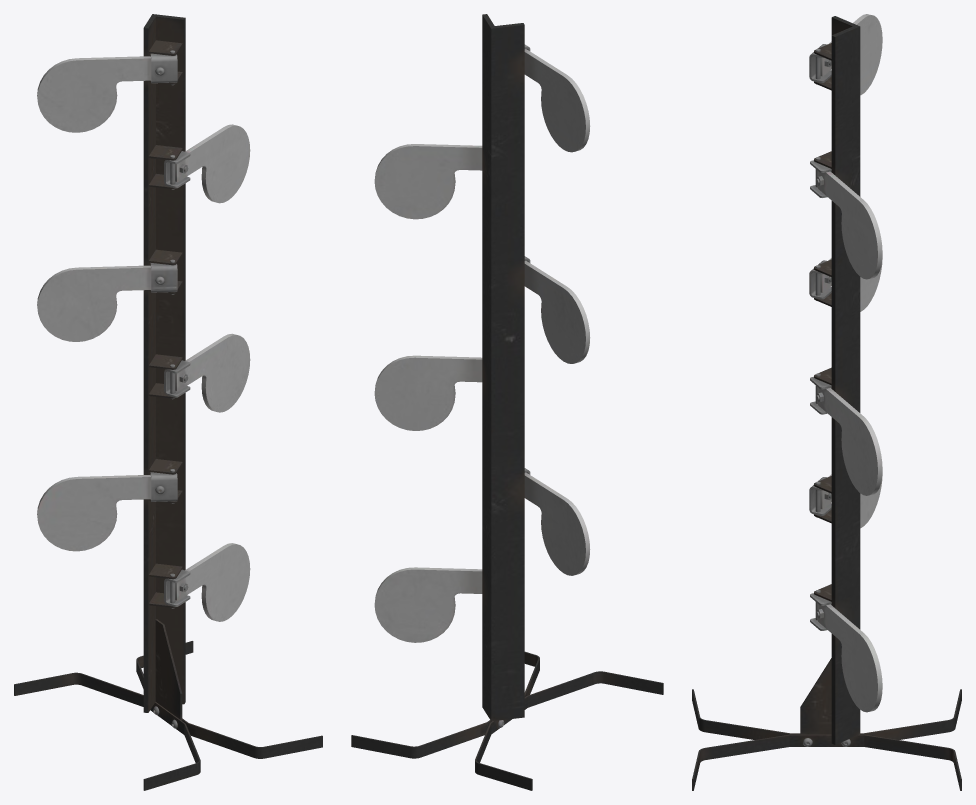
File: target_duel_tree.glb
3 views of the same model, side by side, from view 1: azimuth 30°, elevation 25°; view 2: azimuth 150°, elevation 25°; view 3: azimuth 270°, elevation 25° (orthographic). The views are drawn at different scales.
Parts seen in each view (by area): view 1: DuelTree_Stand_TargetSet01_0, DuelTree_Target_05_TargetSet01_0, DuelTree_Target_03_TargetSet01_0, DuelTree_Target_01_TargetSet01_0, DuelTree_Target_04_TargetSet01_0, DuelTree_Target_02_TargetSet01_0, DuelTree_Target_06_TargetSet01_0; view 2: DuelTree_Stand_TargetSet01_0, DuelTree_Target_06_TargetSet01_0, DuelTree_Target_02_TargetSet01_0, DuelTree_Target_04_TargetSet01_0, DuelTree_Target_01_TargetSet01_0, DuelTree_Target_05_TargetSet01_0, DuelTree_Target_03_TargetSet01_0; view 3: DuelTree_Stand_TargetSet01_0, DuelTree_Target_04_TargetSet01_0, DuelTree_Target_06_TargetSet01_0, DuelTree_Target_02_TargetSet01_0, DuelTree_Target_01_TargetSet01_0, DuelTree_Target_03_TargetSet01_0, DuelTree_Target_05_TargetSet01_0.
Part boxes in pixels (x1=…): DuelTree_Stand_TargetSet01_0: x1=14, y1=14, x2=322, y2=790; DuelTree_Target_05_TargetSet01_0: x1=37, y1=472, x2=177, y2=551; DuelTree_Target_03_TargetSet01_0: x1=37, y1=263, x2=177, y2=341; DuelTree_Target_01_TargetSet01_0: x1=37, y1=53, x2=177, y2=132; DuelTree_Target_04_TargetSet01_0: x1=164, y1=333, x2=250, y2=412; DuelTree_Target_02_TargetSet01_0: x1=164, y1=124, x2=250, y2=203; DuelTree_Target_06_TargetSet01_0: x1=164, y1=543, x2=250, y2=621; DuelTree_Stand_TargetSet01_0: x1=351, y1=14, x2=663, y2=790; DuelTree_Target_06_TargetSet01_0: x1=374, y1=567, x2=482, y2=642; DuelTree_Target_02_TargetSet01_0: x1=374, y1=144, x2=482, y2=219; DuelTree_Target_04_TargetSet01_0: x1=374, y1=355, x2=482, y2=430; DuelTree_Target_01_TargetSet01_0: x1=524, y1=44, x2=590, y2=152; DuelTree_Target_05_TargetSet01_0: x1=524, y1=468, x2=590, y2=575; DuelTree_Target_03_TargetSet01_0: x1=524, y1=256, x2=590, y2=363; DuelTree_Stand_TargetSet01_0: x1=692, y1=16, x2=961, y2=790; DuelTree_Target_04_TargetSet01_0: x1=810, y1=376, x2=882, y2=495; DuelTree_Target_06_TargetSet01_0: x1=810, y1=593, x2=882, y2=712; DuelTree_Target_02_TargetSet01_0: x1=810, y1=160, x2=882, y2=279; DuelTree_Target_01_TargetSet01_0: x1=809, y1=14, x2=882, y2=95; DuelTree_Target_03_TargetSet01_0: x1=809, y1=257, x2=882, y2=311; DuelTree_Target_05_TargetSet01_0: x1=809, y1=473, x2=882, y2=528.
Bounding box in the file's own units: 0.4682 × 1.46 × 0.4969.
Materials: 1 (1 with a texture image).
